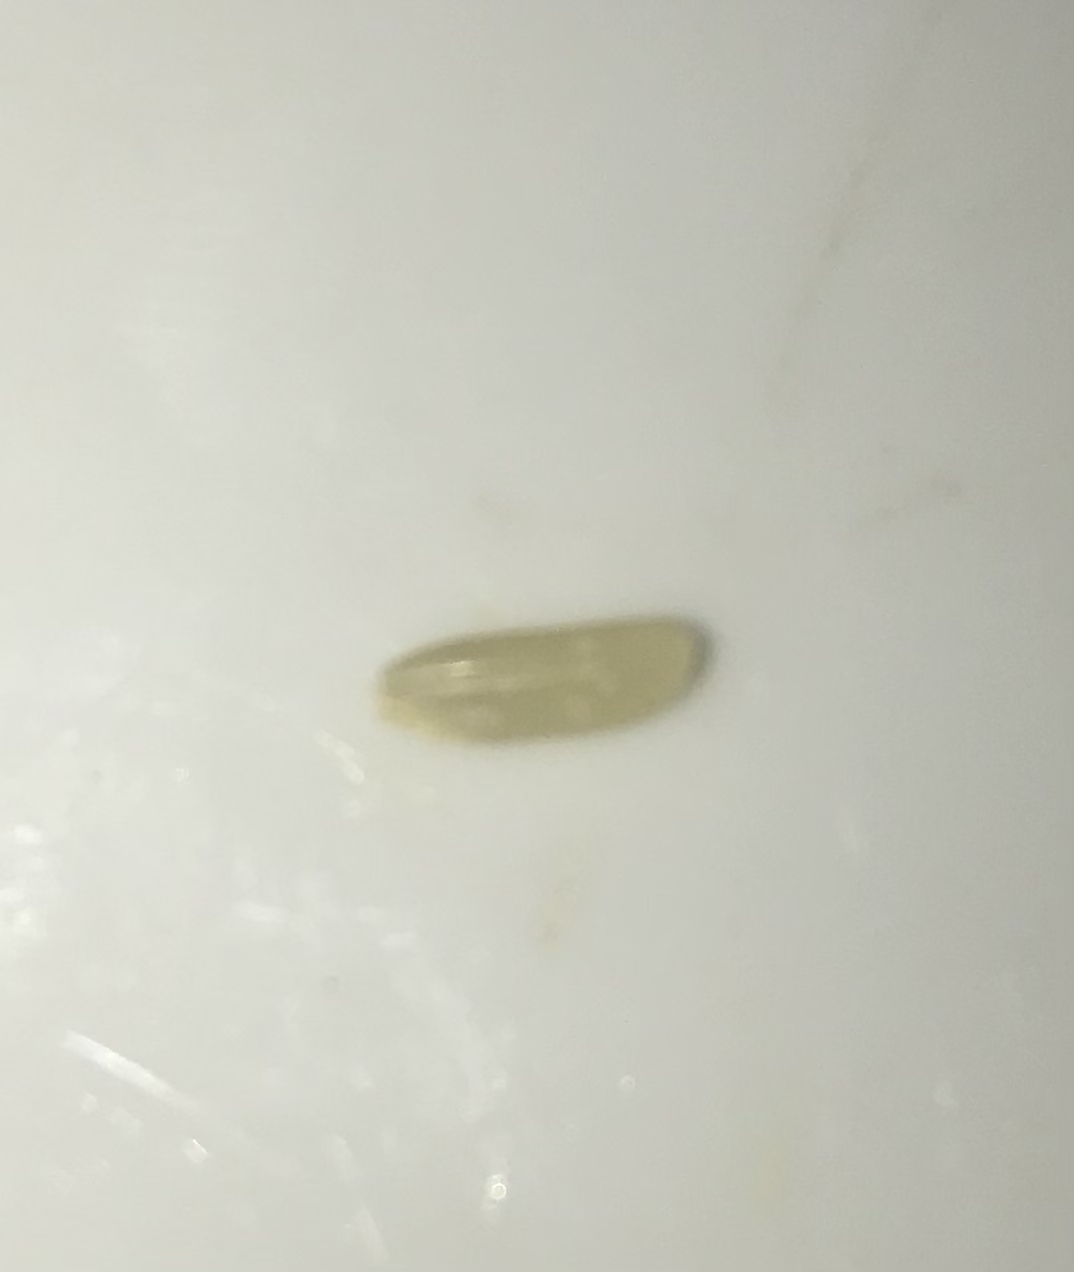Gao Lut Trang: (372, 597, 743, 774)
